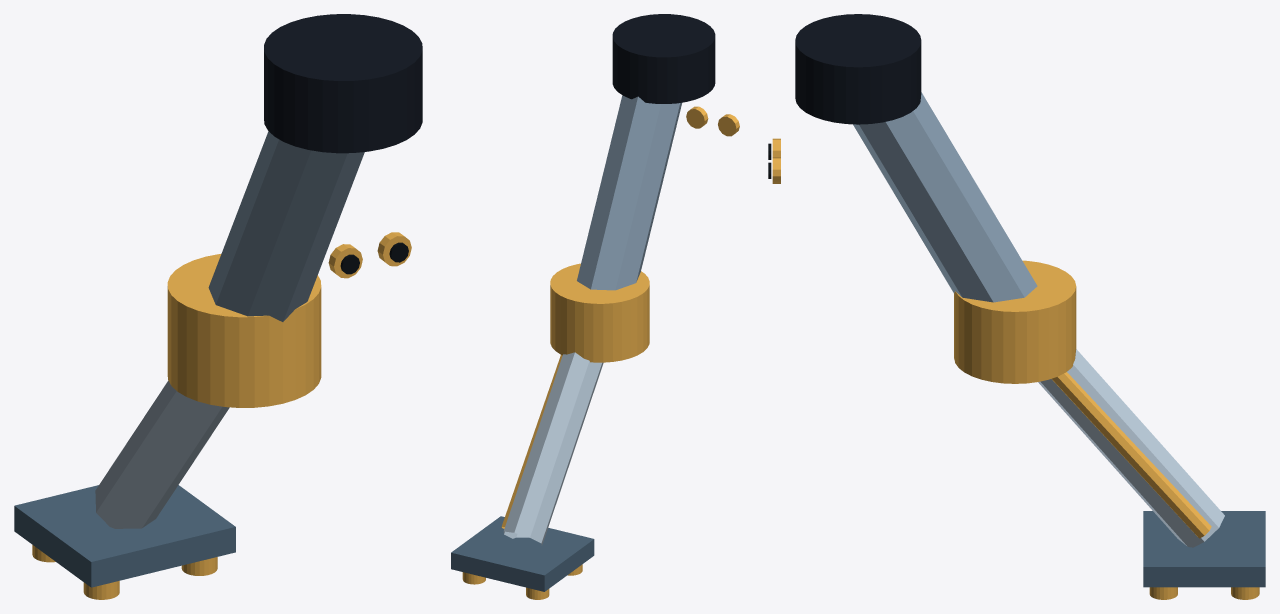
File: 21_L92_ArticulatedLandingLegD.fbx
The picture shows the model from 3 angles, left to right: view 1: azimuth 30°, elevation 25°; view 2: azimuth 150°, elevation 25°; view 3: azimuth 270°, elevation 25°; orthographic projection. The views are drawn at different scales.
Parts seen in each view (by area): view 1: L92_ArticulatedLandingLegD_Part_0002, L92_ArticulatedLandingLegD_Part_0000, L92_ArticulatedLandingLegD_Part_0003, L92_ArticulatedLandingLegD_Part_0005, L92_ArticulatedLandingLegD_Part_0004, L92_ArticulatedLandingLegD_Part_0006, L92_ArticulatedLandingLegD_Part_0009, L92_ArticulatedLandingLegD_Part_0007; view 2: L92_ArticulatedLandingLegD_Part_0000, L92_ArticulatedLandingLegD_Part_0002, L92_ArticulatedLandingLegD_Part_0003, L92_ArticulatedLandingLegD_Part_0004, L92_ArticulatedLandingLegD_Part_0005, L92_ArticulatedLandingLegD_Part_0006; view 3: L92_ArticulatedLandingLegD_Part_0000, L92_ArticulatedLandingLegD_Part_0003, L92_ArticulatedLandingLegD_Part_0002, L92_ArticulatedLandingLegD_Part_0005, L92_ArticulatedLandingLegD_Part_0004, L92_ArticulatedLandingLegD_Part_0006.
Boxes of the visible parts, box(x1,y1,x2,y2) form: L92_ArticulatedLandingLegD_Part_0002: box(264, 14, 422, 153); L92_ArticulatedLandingLegD_Part_0000: box(208, 131, 364, 321); L92_ArticulatedLandingLegD_Part_0003: box(167, 254, 321, 407); L92_ArticulatedLandingLegD_Part_0005: box(14, 485, 235, 587); L92_ArticulatedLandingLegD_Part_0004: box(95, 380, 229, 528); L92_ArticulatedLandingLegD_Part_0006: box(32, 545, 217, 599); L92_ArticulatedLandingLegD_Part_0009: box(377, 232, 411, 266); L92_ArticulatedLandingLegD_Part_0007: box(328, 244, 362, 278); L92_ArticulatedLandingLegD_Part_0000: box(577, 95, 681, 290); L92_ArticulatedLandingLegD_Part_0002: box(612, 14, 715, 103); L92_ArticulatedLandingLegD_Part_0003: box(501, 263, 649, 528); L92_ArticulatedLandingLegD_Part_0004: box(503, 352, 603, 545); L92_ArticulatedLandingLegD_Part_0005: box(451, 516, 594, 591); L92_ArticulatedLandingLegD_Part_0006: box(462, 564, 582, 599); L92_ArticulatedLandingLegD_Part_0000: box(853, 92, 1037, 302); L92_ArticulatedLandingLegD_Part_0003: box(954, 260, 1211, 538); L92_ArticulatedLandingLegD_Part_0002: box(795, 14, 921, 124); L92_ArticulatedLandingLegD_Part_0005: box(1143, 511, 1265, 587); L92_ArticulatedLandingLegD_Part_0004: box(1038, 349, 1224, 547); L92_ArticulatedLandingLegD_Part_0006: box(1149, 587, 1259, 599).
Bounding box in the file's own units: 65 × 290 × 244.
